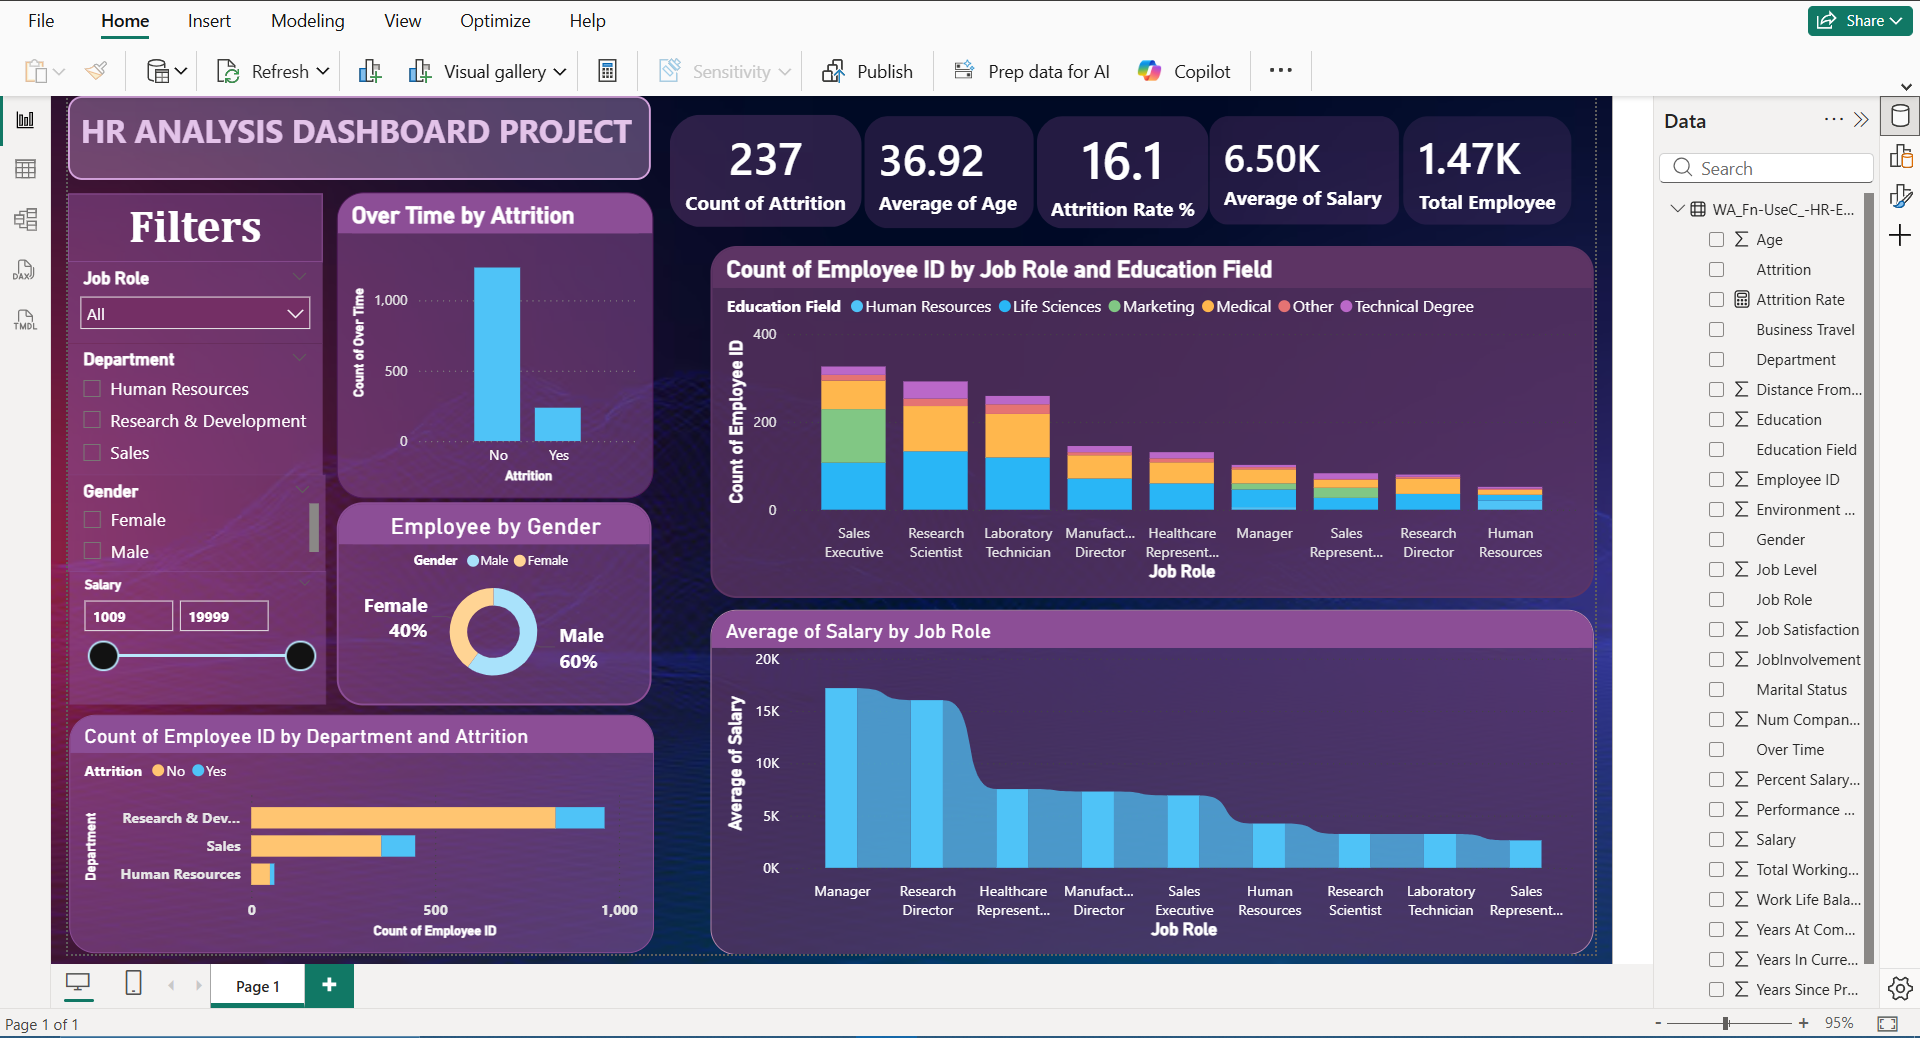

The page's visual inventory and layout, read from the dashboard file:
{"tool":"powerbi","page":{"name":"Page 1","canvas":[1280,720],"ordinal":0},"visuals":[{"type":"cardVisual","title":"Total Employee","fields":{"Data":["CountNonNull(WA_Fn-UseC_-HR-Employee-Attriti.Employee ID)"]},"box":[1102.8,0,176.9,125.1],"z":0},{"type":"cardVisual","title":"Attrition Rate %","fields":{"Data":["Avg(WA_Fn-UseC_-HR-Employee-Attriti.Age)"]},"box":[650.7,0,176,125.5],"z":1000},{"type":"cardVisual","title":"Average Salary","fields":{"Data":["Avg(WA_Fn-UseC_-HR-Employee-Attriti.Monthly Income)"]},"box":[940.7,0,193.3,125.5],"z":2000},{"type":"barChart","fields":{"Category":["WA_Fn-UseC_-HR-Employee-Attriti.Department"],"Y":["CountNonNull(WA_Fn-UseC_-HR-Employee-Attriti.Employee ID)"],"Series":["WA_Fn-UseC_-HR-Employee-Attriti.Attrition"]},"box":[1.2,519,490.2,200.1],"z":3000},{"type":"donutChart","title":"Employee by Gender","fields":{"Category":["WA_Fn-UseC_-HR-Employee-Attriti.Gender"],"Y":["CountNonNull(WA_Fn-UseC_-HR-Employee-Attriti.Employee ID)"]},"box":[225.3,340.4,263.7,170.2],"z":4000},{"type":"columnChart","fields":{"Y":["CountNonNull(WA_Fn-UseC_-HR-Employee-Attriti.Employee ID)"],"Series":["WA_Fn-UseC_-HR-Employee-Attriti.Education Field"],"Category":["WA_Fn-UseC_-HR-Employee-Attriti.Job Role"]},"box":[539.3,125.5,740.6,295.1],"z":5000},{"type":"columnChart","title":"Over Time by Attrition","fields":{"Category":["WA_Fn-UseC_-HR-Employee-Attriti.Attrition"],"Y":["CountNonNull(WA_Fn-UseC_-HR-Employee-Attriti.Over Time)"]},"box":[225,80.3,265.7,256.7],"z":6000},{"type":"cardVisual","title":"Attrition count","fields":{"Rows":["WA_Fn-UseC_-HR-Employee-Attriti.Attrition"],"Data":["CountNonNull(WA_Fn-UseC_-HR-Employee-Attriti.Employee ID)"]},"box":[469.8,15.3,231.8,129.6],"z":7000},{"type":"slicer","fields":{"Values":["WA_Fn-UseC_-HR-Employee-Attriti.Department"]},"box":[0,207.3,213.3,110.3],"z":8000},{"type":"slicer","fields":{"Values":["WA_Fn-UseC_-HR-Employee-Attriti.Gender"]},"box":[0,317.6,215.7,81.5],"z":9000},{"type":"slicer","fields":{"Values":["WA_Fn-UseC_-HR-Employee-Attriti.Job Role"]},"box":[0,139,213.3,68.3],"z":10000},{"type":"cardVisual","title":"Attrition Rate %","fields":{"Data":["WA_Fn-UseC_-HR-Employee-Attriti.Attrition Rate"]},"box":[796.2,0,178.5,125.1],"z":11000},{"type":"textbox","box":[0,81.5,213.3,57.5],"z":12000},{"type":"textbox","box":[0,0,489.1,70.7],"z":13000},{"type":"slicer","fields":{"Values":["WA_Fn-UseC_-HR-Employee-Attriti.Salary"]},"box":[1.1,398,214.8,111.9],"z":14000},{"type":"ribbonChart","fields":{"Y":["Avg(WA_Fn-UseC_-HR-Employee-Attriti.Salary)"],"Category":["WA_Fn-UseC_-HR-Employee-Attriti.Job Role"]},"box":[539.3,430.8,740.6,289.4],"z":15000}]}

Visuals, with their boxes on the page's 1280x720 design canvas (x1, y1, x2, y2). These are canvas units, not pixel positions in the 1920x1038 screenshot, which may show the page scaled, cropped or inside an application window:
"Total Employee" cardVisual: 1103:0:1280:125
"Attrition Rate %" cardVisual: 651:0:827:126
"Average Salary" cardVisual: 941:0:1134:126
barChart - WA_Fn-UseC_-HR-Employee-Attriti.Department x CountNonNull(WA_Fn-UseC_-HR-Employee-Attriti.Employee ID): 1:519:491:719
"Employee by Gender" donutChart: 225:340:489:511
columnChart - CountNonNull(WA_Fn-UseC_-HR-Employee-Attriti.Employee ID) x WA_Fn-UseC_-HR-Employee-Attriti.Education Field: 539:126:1280:421
"Over Time by Attrition" columnChart: 225:80:491:337
"Attrition count" cardVisual: 470:15:702:145
slicer - WA_Fn-UseC_-HR-Employee-Attriti.Department: 0:207:213:318
slicer - WA_Fn-UseC_-HR-Employee-Attriti.Gender: 0:318:216:399
slicer - WA_Fn-UseC_-HR-Employee-Attriti.Job Role: 0:139:213:207
"Attrition Rate %" cardVisual: 796:0:975:125
textbox: 0:82:213:139
textbox: 0:0:489:71
slicer - WA_Fn-UseC_-HR-Employee-Attriti.Salary: 1:398:216:510
ribbonChart - Avg(WA_Fn-UseC_-HR-Employee-Attriti.Salary) x WA_Fn-UseC_-HR-Employee-Attriti.Job Role: 539:431:1280:720
